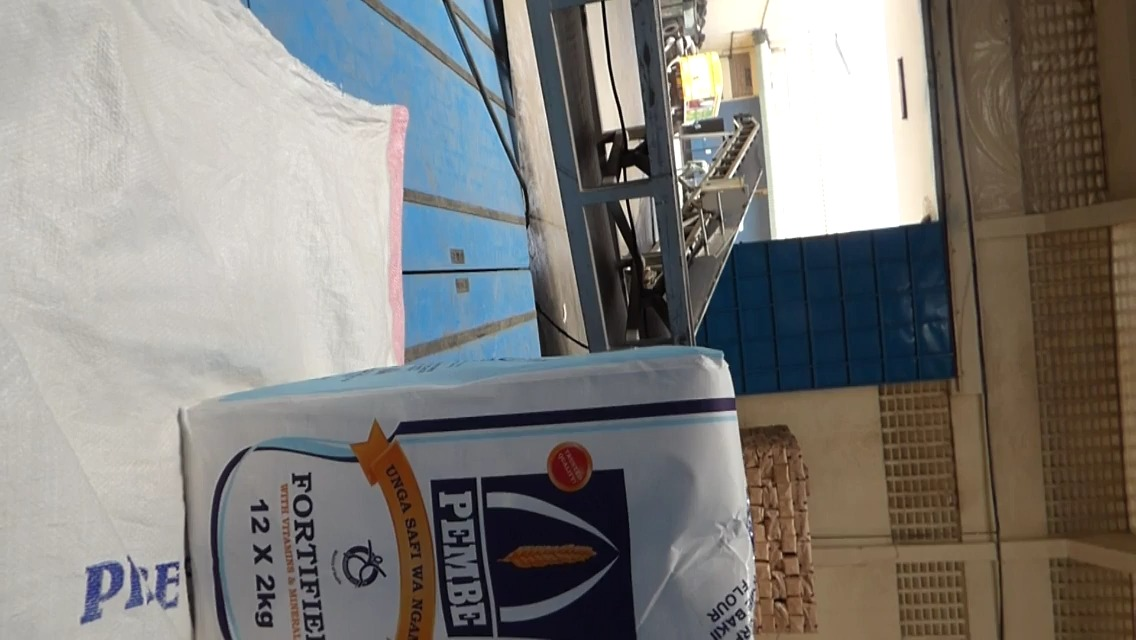wheat_flour_blue_label: (182, 348, 750, 640)
